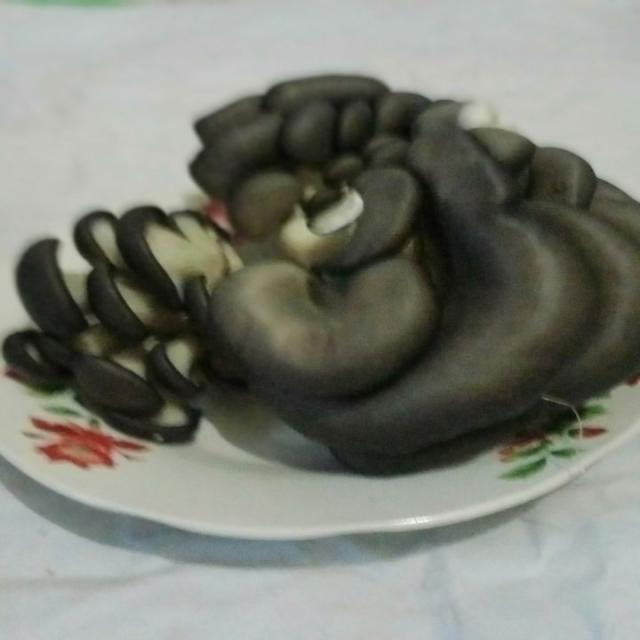Pleurotus ostreatus: (7, 76, 640, 477)
